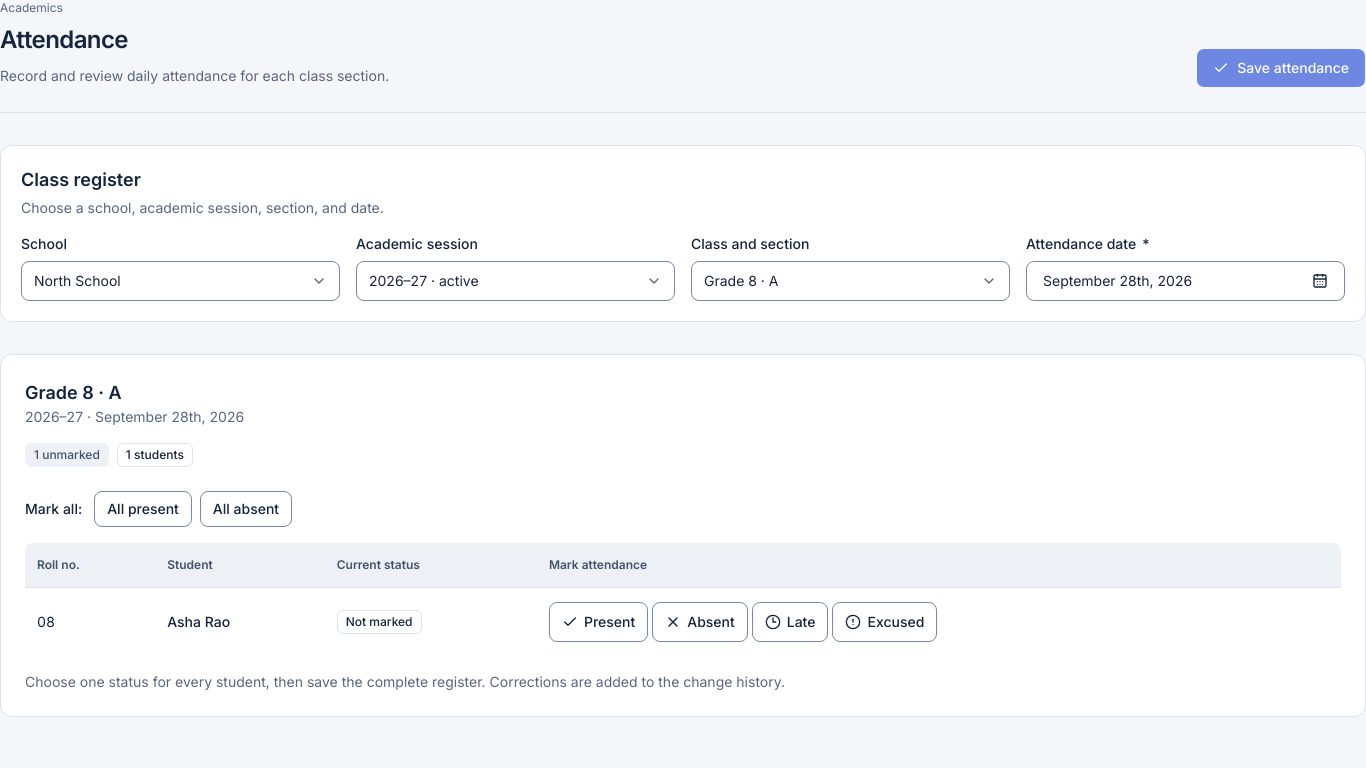
Scenario: attendance workspace › supports explicit bulk present marking and saves the complete roster
The image size is (1366, 768).
What coordinates should you click on to do the following:
click the button "All present"
I would click on:
 (143, 509)
Its box is [94, 491, 192, 527].
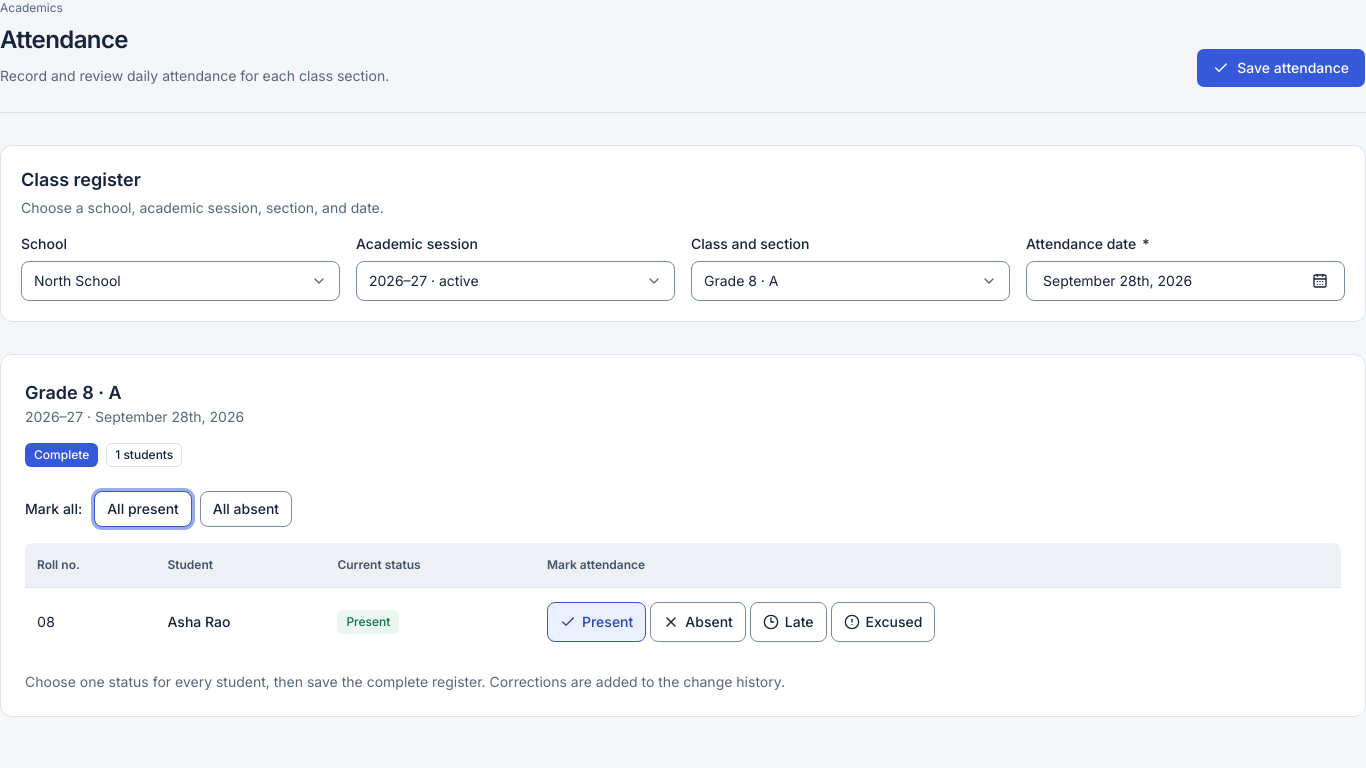
Expected: the text "Complete" is shown, [25, 443, 98, 467]
What coordinates should you click on to do the following:
click the button "Save attendance"
I would click on:
 (1281, 68)
Its box is [1196, 48, 1365, 88].
(page scrolled)
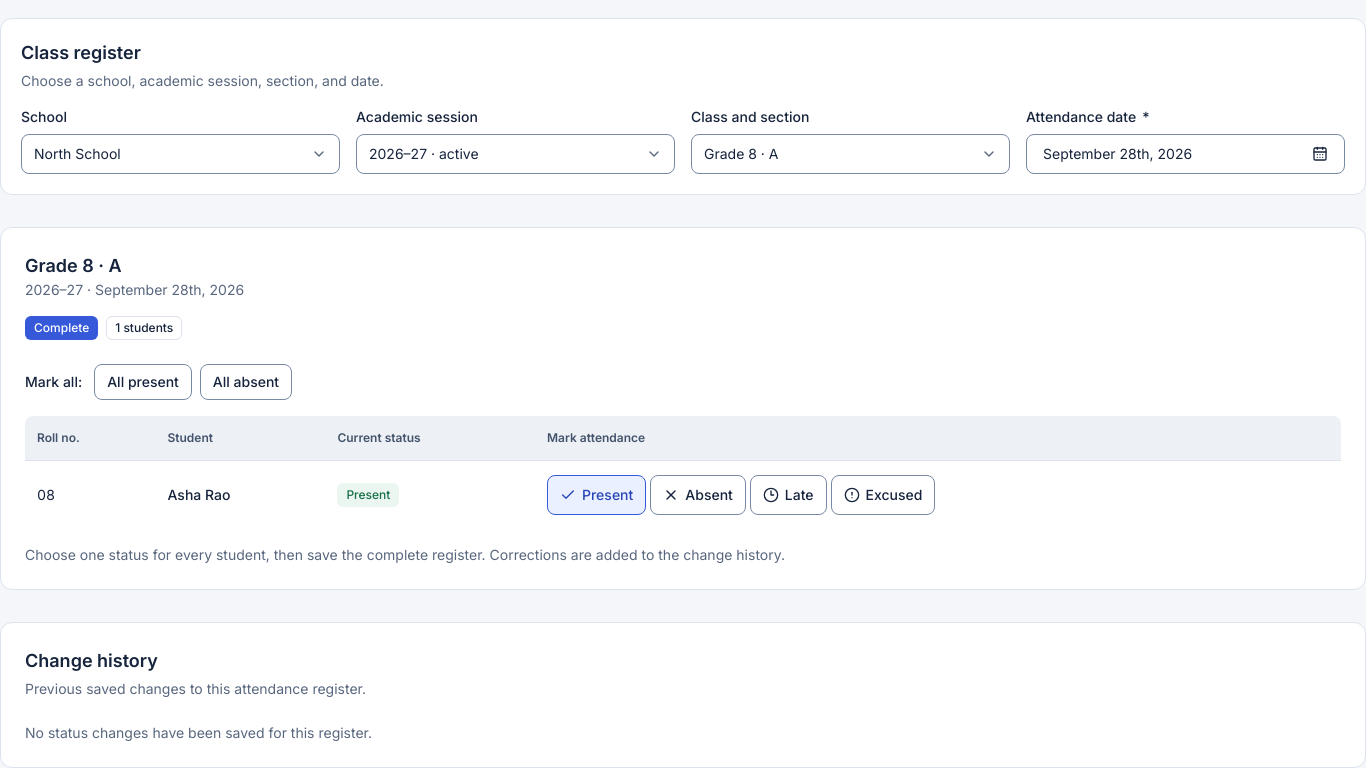
Expected: the heading "Change history" is shown, [25, 650, 158, 671]
